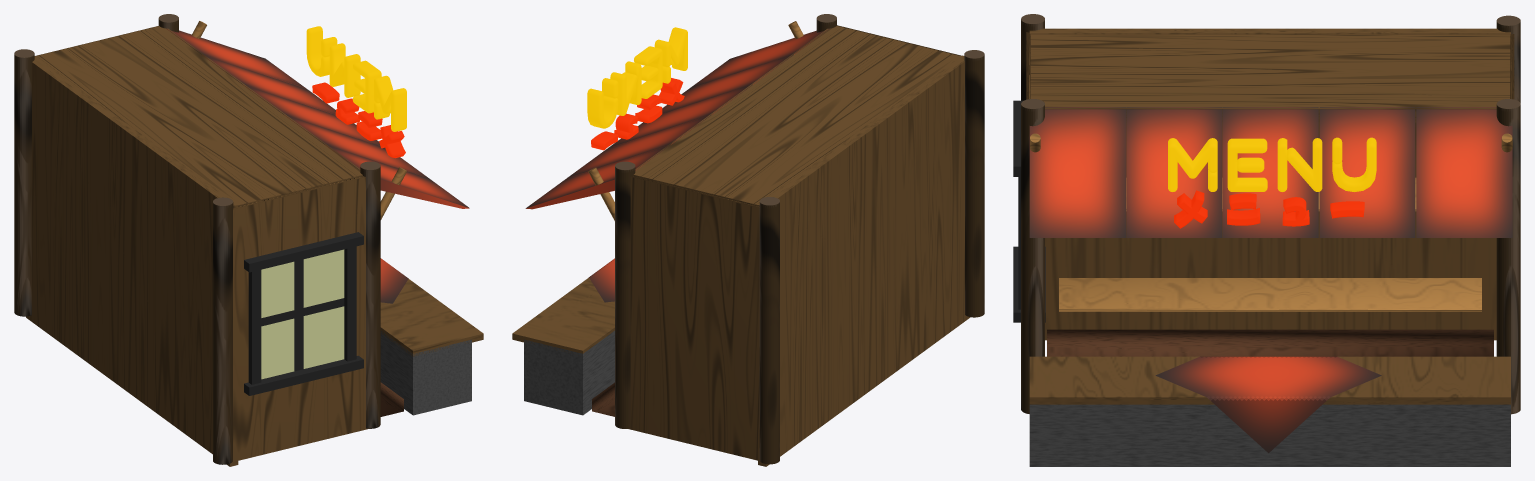
The model's file is shop.glb.
The picture shows the model from 3 angles, left to right: view 1: azimuth 30°, elevation 25°; view 2: azimuth 150°, elevation 25°; view 3: azimuth 270°, elevation 25°; orthographic projection. The views are drawn at different scales.
Visible parts, largest first — view 1: back wall, Cube.001, Cube.007, Cube.013, Plane, Cylinder.005, Cylinder.004, English, Cube, Cylinder.002, Text.001, Cube.006 (+12 smaller); view 2: back wall, Cube.009, Cube.001, Cylinder.004, Plane, Cylinder.005, English, Cube, Cylinder, Cube.004, Text.001, Cube.002 (+5 smaller); view 3: Cube.001, back wall, Plane, Cube, Base.005, Base.004, Cube.006, Cube.004, Plane.001, Cube.002, Cube.003, Cube.005 (+8 smaller).
Boxes of the visible parts, x1,y1,x2,y2 form: back wall: (26,56,238,466); Cube.001: (35,26,362,206); Cube.007: (232,176,368,462); Cube.013: (261,249,344,379); Plane: (380,331,471,415); Cylinder.005: (213,197,233,464); Cylinder.004: (14,49,34,316); English: (306,26,406,131); Cube: (380,279,483,356); Cylinder.002: (360,161,380,428); Text.001: (312,82,405,158); Cube.006: (324,144,469,208); back wall: (758,55,970,466); Cube.009: (629,176,759,460); Cube.001: (633,26,960,205); Cylinder.004: (759,197,779,464); Plane: (524,331,614,415); Cylinder.005: (964,50,984,317); English: (587,27,687,128); Cube: (512,277,614,355); Cylinder: (615,161,635,428); Cube.004: (525,145,670,209); Text.001: (591,78,684,150); Cube.002: (567,115,711,178); Cube.001: (1030,34,1510,122); back wall: (1029,28,1510,340); Plane: (1029,404,1510,466); Cube: (1029,356,1510,404); Base.005: (1059,278,1481,311); Base.004: (1047,329,1493,356); Cube.006: (1029,107,1125,237); Cube.004: (1416,107,1512,237); Plane.001: (1155,356,1381,453); Cube.002: (1319,107,1415,237); Cube.003: (1126,107,1221,237); Cube.005: (1222,107,1318,237).
Bounding box in the file's own units: 4.57 × 4.5 × 6.33.
Materials: 16 (12 with a texture image).
